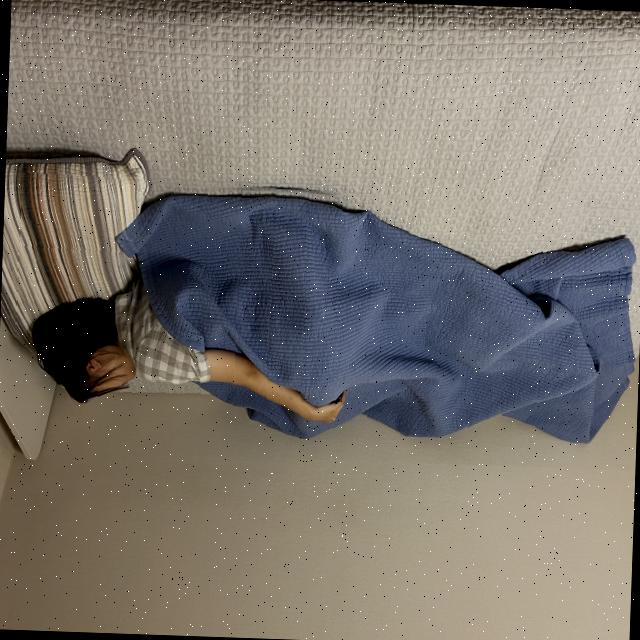people: (10, 171, 640, 470)
